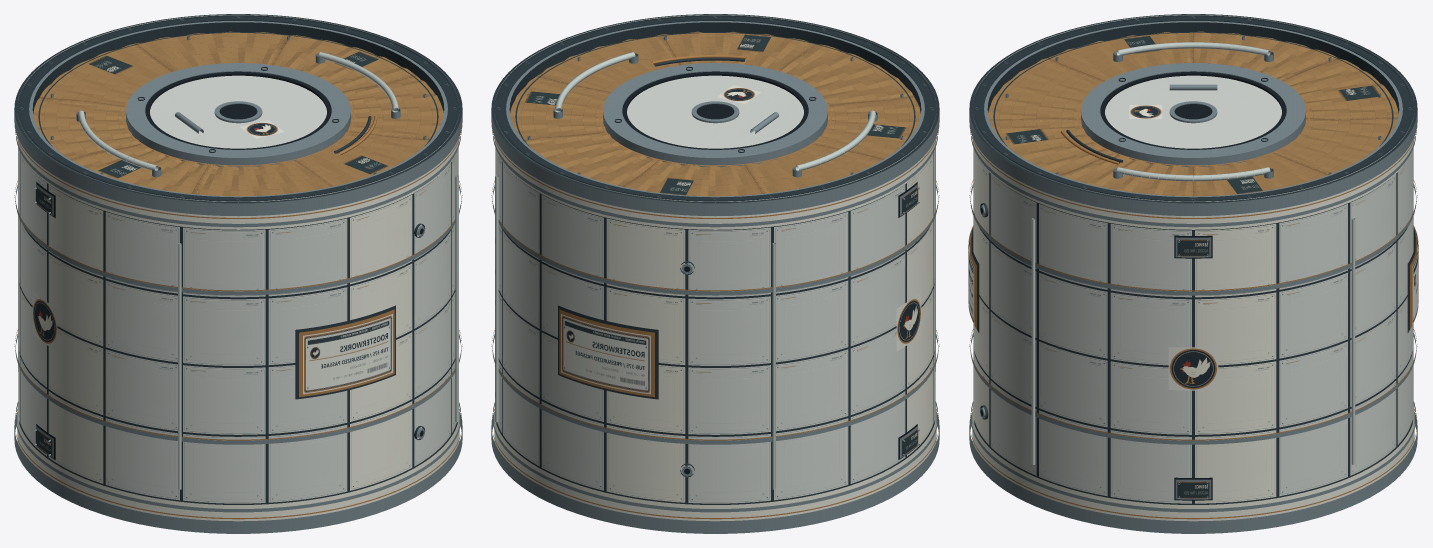
Rendered from RW_TUB_375.obj.
3 renders of one model, left to right at view 1: azimuth 30°, elevation 25°; view 2: azimuth 150°, elevation 25°; view 3: azimuth 270°, elevation 25°, orthographic.
Visible parts, largest first — view 1: cladding, steel, hubblanket, cladding_white, graphite, white, ceramic, tublabel, bronze, rail, black, detail (+1 smaller); view 2: cladding, steel, hubblanket, graphite, cladding_white, white, ceramic, tublabel, bronze, rail, detail, black (+1 smaller); view 3: cladding, steel, hubblanket, graphite, cladding_white, white, ceramic, bronze, rail, detail, crest, black (+1 smaller).
Boxes of the visible parts, left/top/right/bottom form: cladding: left=18, top=148, right=458, bottom=503; steel: left=14, top=16, right=462, bottom=533; hubblanket: left=33, top=31, right=443, bottom=196; cladding_white: left=48, top=185, right=412, bottom=490; graphite: left=14, top=14, right=462, bottom=504; white: left=17, top=14, right=459, bottom=521; ceramic: left=150, top=75, right=326, bottom=148; tublabel: left=303, top=314, right=392, bottom=394; bronze: left=14, top=101, right=462, bottom=519; rail: left=18, top=52, right=458, bottom=489; black: left=36, top=71, right=423, bottom=459; detail: left=35, top=51, right=388, bottom=456; cladding: left=495, top=148, right=935, bottom=503; steel: left=491, top=16, right=939, bottom=533; hubblanket: left=510, top=31, right=920, bottom=196; graphite: left=491, top=14, right=939, bottom=504; cladding_white: left=606, top=152, right=933, bottom=502; white: left=494, top=14, right=936, bottom=521; ceramic: left=627, top=75, right=803, bottom=148; tublabel: left=561, top=314, right=650, bottom=394; bronze: left=491, top=55, right=939, bottom=519; rail: left=495, top=52, right=935, bottom=489; detail: left=524, top=34, right=918, bottom=456; black: left=622, top=71, right=917, bottom=474; cladding: left=973, top=148, right=1413, bottom=503; steel: left=969, top=16, right=1417, bottom=533; hubblanket: left=988, top=31, right=1398, bottom=196; graphite: left=969, top=14, right=1417, bottom=504; cladding_white: left=973, top=148, right=1413, bottom=503; white: left=972, top=14, right=1414, bottom=521; ceramic: left=1105, top=75, right=1281, bottom=148; bronze: left=969, top=102, right=1417, bottom=519; rail: left=1031, top=42, right=1355, bottom=464; detail: left=1005, top=35, right=1381, bottom=498; crest: left=1129, top=105, right=1218, bottom=390; black: left=980, top=71, right=1286, bottom=500.
Size of the model in its own units: 3.72 by 3 by 3.69.
13 materials, 13 textured.
